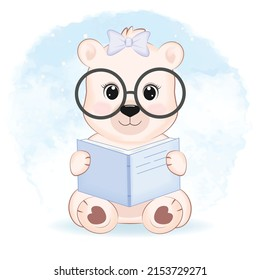animal: (75, 32, 193, 230)
